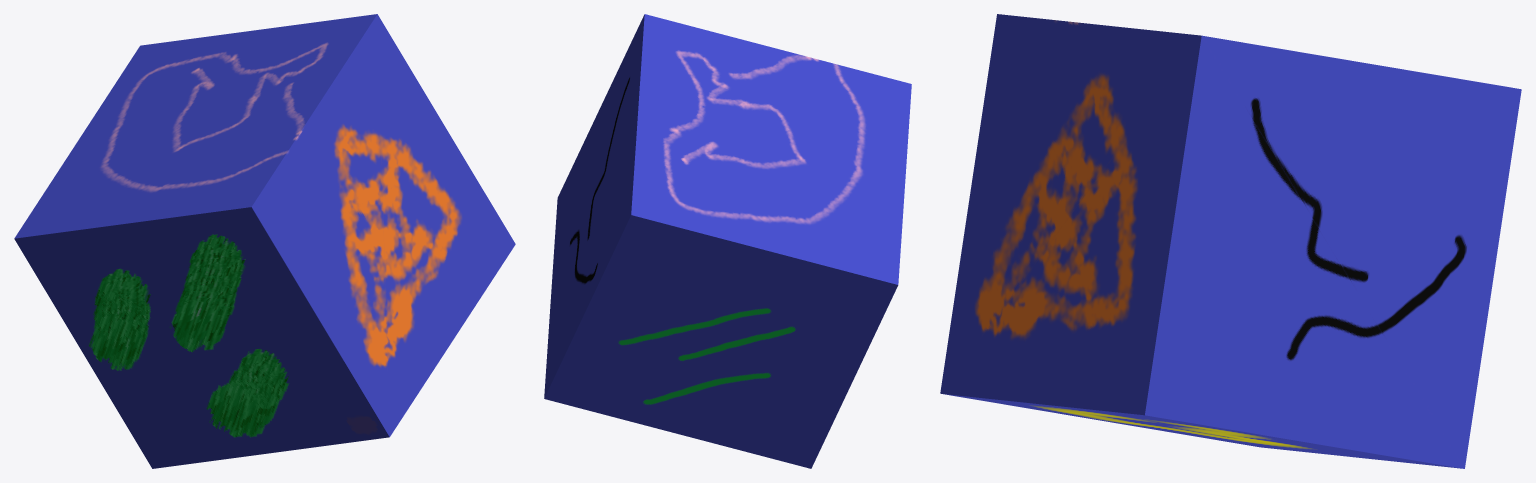
File: Cube_of_Color.glb
3 views of the same model, side by side, from view 1: azimuth 30°, elevation 25°; view 2: azimuth 150°, elevation 25°; view 3: azimuth 270°, elevation 25° (orthographic). The views are drawn at different scales.
Visible parts, largest first — view 1: mesh_id27; view 2: mesh_id27; view 3: mesh_id27.
Part boxes in pixels (<box>): mesh_id27: <box>14,14,515,468</box>; mesh_id27: <box>544,14,911,468</box>; mesh_id27: <box>940,14,1521,468</box>.
Size of the model in its own units: 0.3315 by 0.3086 by 0.3028.
1 material, 1 textured.
